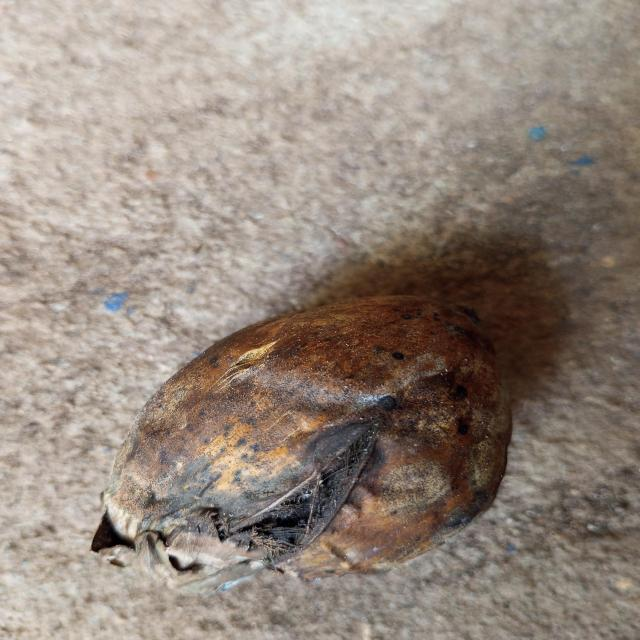damaged: (92, 283, 530, 584)
